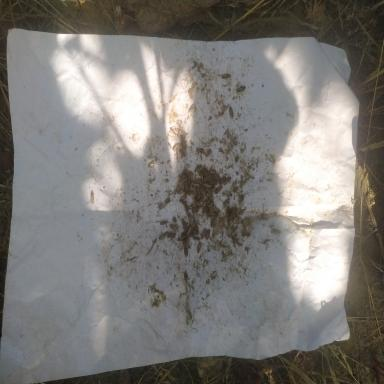pbw: (221, 68, 231, 80), (188, 104, 196, 117), (230, 206, 237, 220), (226, 207, 234, 218), (222, 198, 230, 209), (158, 201, 167, 210), (159, 231, 168, 240), (214, 184, 222, 194), (181, 219, 187, 232), (230, 135, 237, 146), (172, 142, 180, 151), (201, 228, 207, 240), (223, 176, 231, 185), (170, 224, 179, 232), (222, 190, 232, 197), (236, 85, 246, 92), (170, 127, 177, 137), (202, 199, 208, 210), (224, 128, 230, 139), (229, 106, 234, 119), (194, 164, 202, 172), (179, 148, 186, 157), (190, 220, 196, 230), (188, 181, 194, 191), (186, 309, 192, 319), (90, 192, 95, 204), (186, 237, 191, 249), (210, 217, 216, 227), (206, 188, 212, 198), (198, 165, 206, 172), (180, 176, 188, 183), (212, 205, 219, 213), (199, 168, 206, 176), (205, 229, 210, 240), (198, 185, 203, 196), (184, 204, 189, 215), (206, 180, 216, 185), (160, 220, 170, 225), (208, 200, 214, 208), (192, 186, 196, 198), (210, 211, 218, 217), (188, 212, 192, 224), (197, 241, 201, 253), (198, 194, 204, 202), (178, 235, 186, 241), (188, 171, 192, 183), (219, 177, 227, 183), (203, 175, 208, 184), (184, 181, 188, 192), (196, 200, 202, 207), (183, 168, 189, 175), (148, 160, 154, 167), (184, 247, 188, 257), (271, 229, 281, 233), (209, 173, 213, 183), (180, 195, 188, 200), (193, 197, 197, 207), (186, 190, 194, 195), (176, 184, 180, 194), (206, 149, 211, 157), (188, 233, 194, 239), (207, 198, 213, 204), (188, 203, 194, 209), (187, 227, 191, 236), (209, 169, 216, 174), (197, 206, 202, 213), (195, 179, 202, 184), (179, 171, 184, 178), (203, 188, 207, 196), (179, 200, 187, 204), (192, 182, 200, 186), (196, 148, 204, 152), (205, 184, 213, 188), (192, 236, 200, 240), (210, 187, 216, 192), (176, 148, 179, 158), (196, 194, 201, 200), (190, 171, 193, 180), (207, 209, 209, 220), (201, 174, 203, 182), (182, 182, 184, 190)
